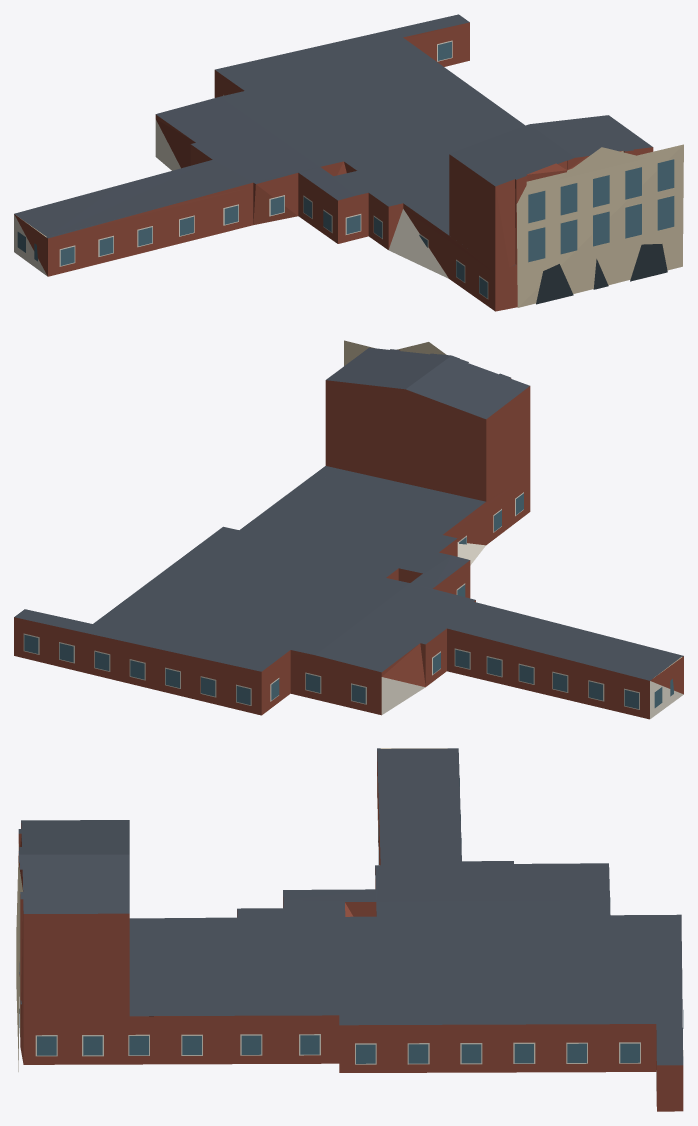
The model's file is dutch-resistance-museum.lod2.glb.
3 views of the same model, one above another, from view 1: azimuth 30°, elevation 25°; view 2: azimuth 150°, elevation 25°; view 3: azimuth 270°, elevation 25° (orthographic). The views are drawn at different scales.
Visible parts, largest first — view 1: lod2; view 2: lod2; view 3: lod2.
Boxes of the visible parts, box(x1,y1,x2,y2) form: lod2: box(14, 14, 683, 311); lod2: box(14, 340, 683, 719); lod2: box(16, 748, 683, 1111).
Bounding box in the file's own units: 70.94 × 17.8 × 63.33.
